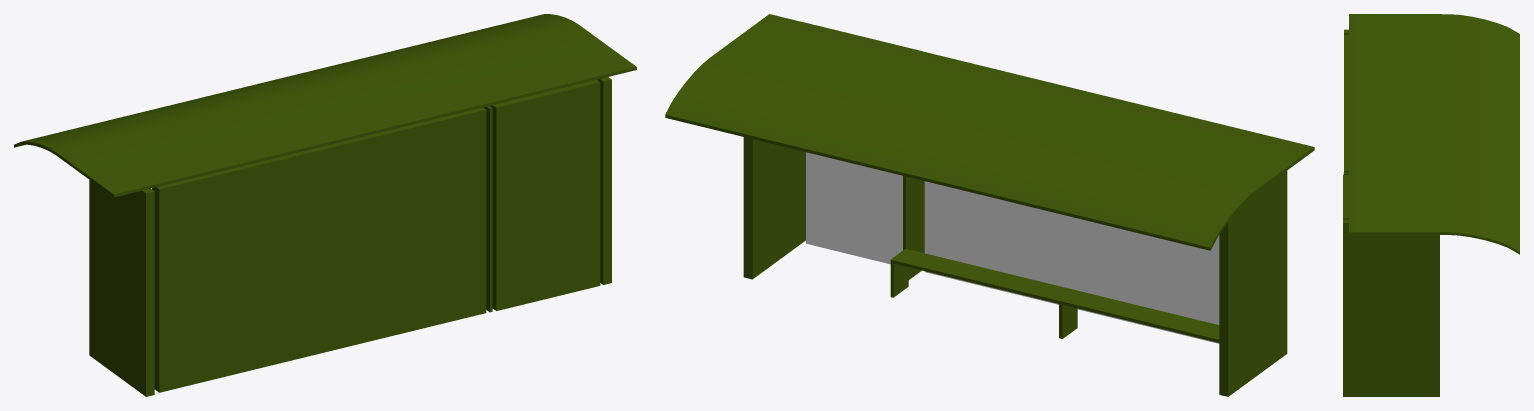
Rendered from tram xe buyt.fbx.
The picture shows the model from 3 angles, left to right: view 1: azimuth 30°, elevation 25°; view 2: azimuth 150°, elevation 25°; view 3: azimuth 270°, elevation 25°; orthographic projection. The views are drawn at different scales.
Parts seen in each view (by area): view 1: Bus station; view 2: Bus station; view 3: Bus station.
Boxes of the visible parts, x1,y1,x2,y2 form: Bus station: (14,14,636,396); Bus station: (665,14,1314,396); Bus station: (1343,14,1519,396).
Size of the model in its own units: 538 by 204 by 184.
